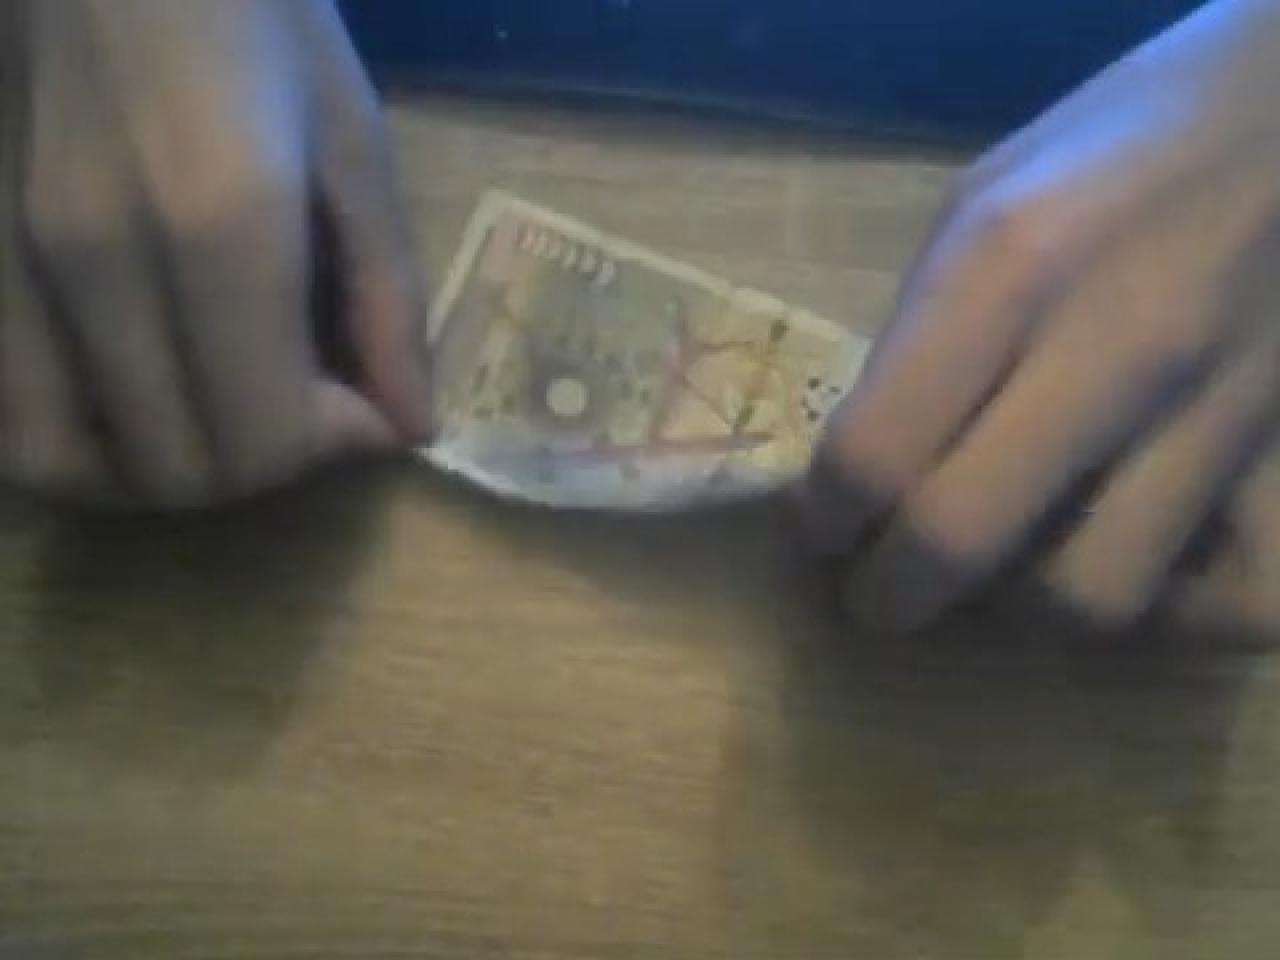10leva: (421, 189, 867, 517)
